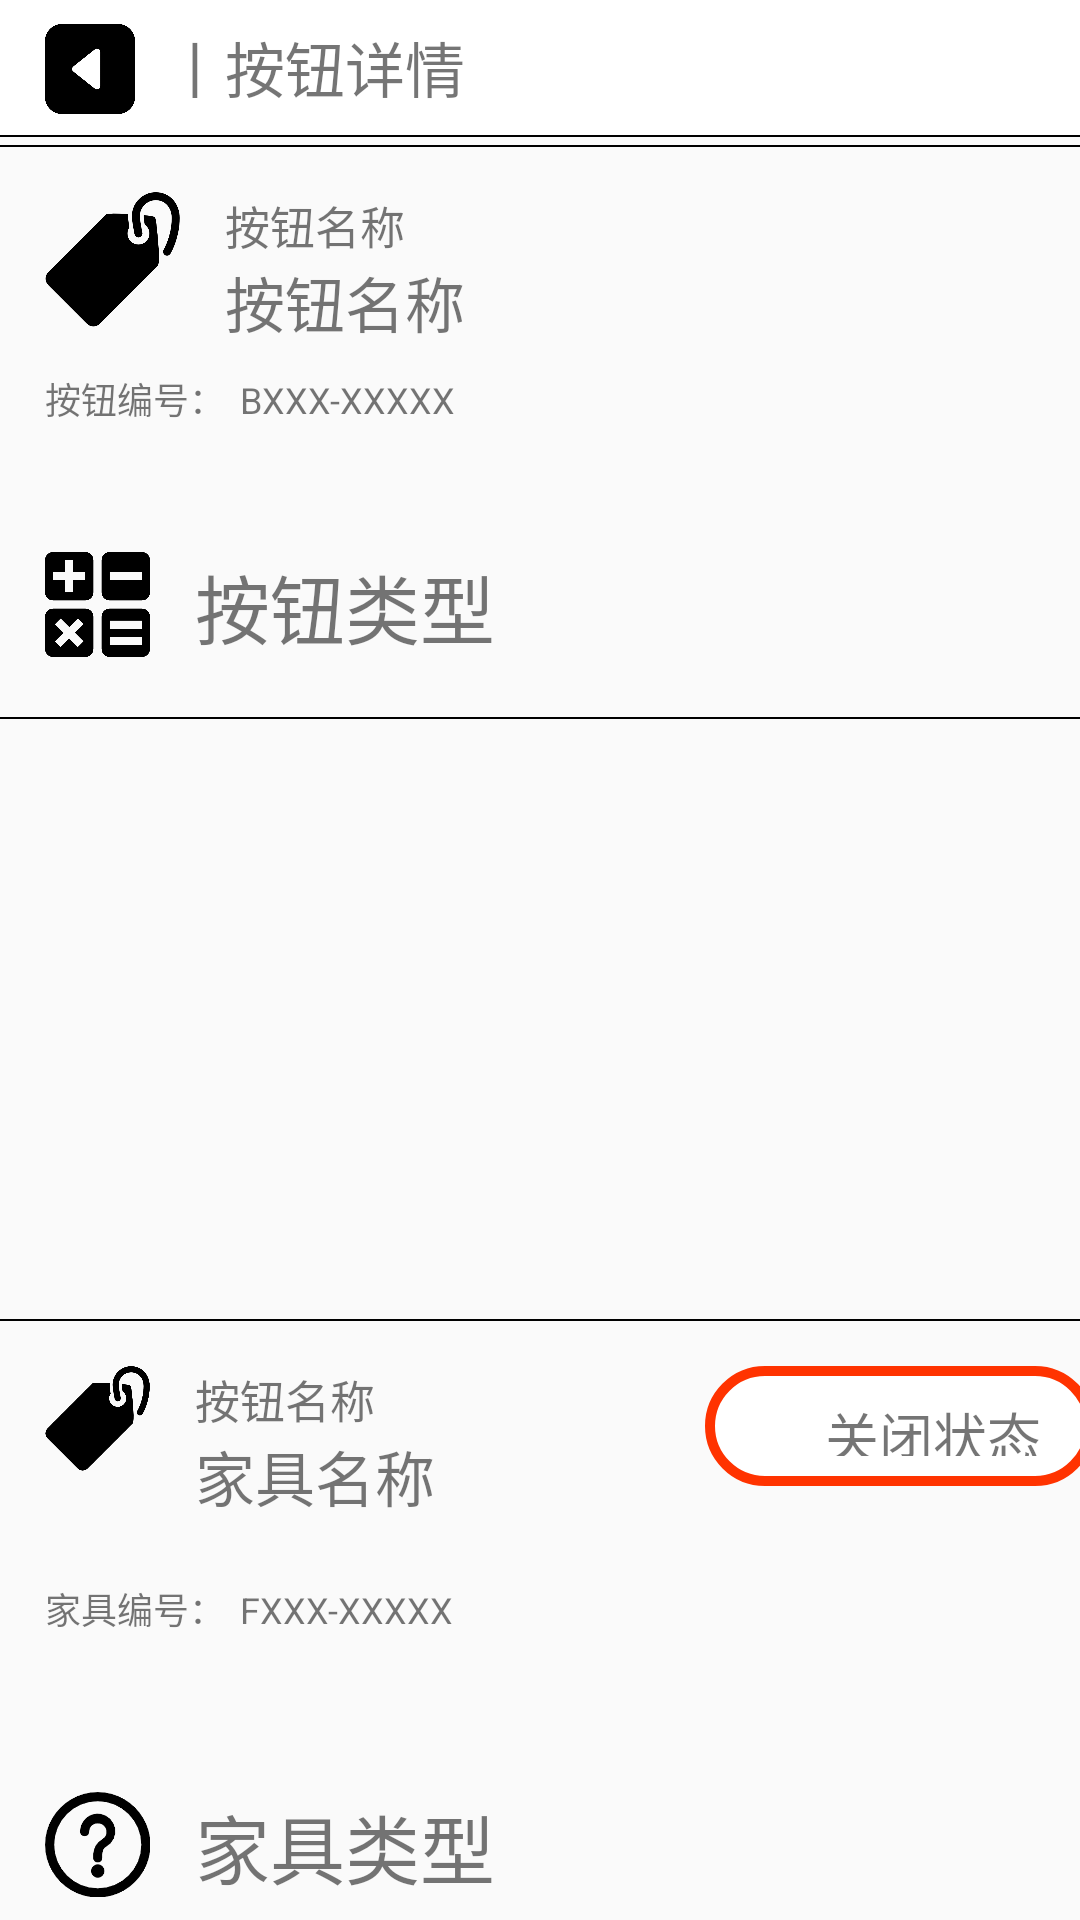

Locate icon controls on the screen. Image size 1080w x 1920h, boxes as box=[x1, y1, x2, y2].
back: box=[45, 24, 135, 114]
tag: box=[45, 192, 180, 327], box=[45, 1366, 150, 1471]
unknown: box=[45, 1792, 150, 1897]
